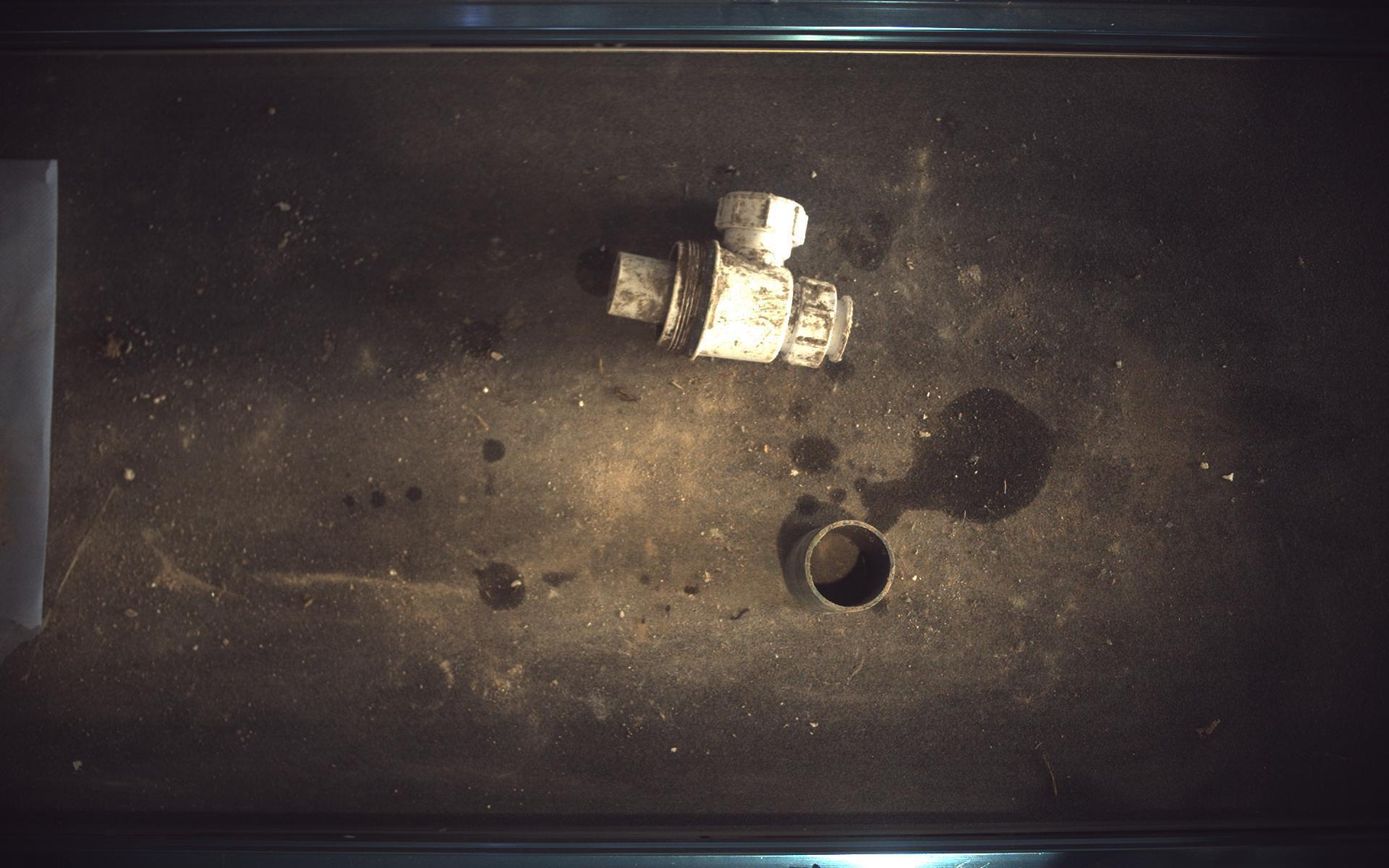pipes: (785, 520, 897, 613)
plastic: (608, 191, 855, 367)
